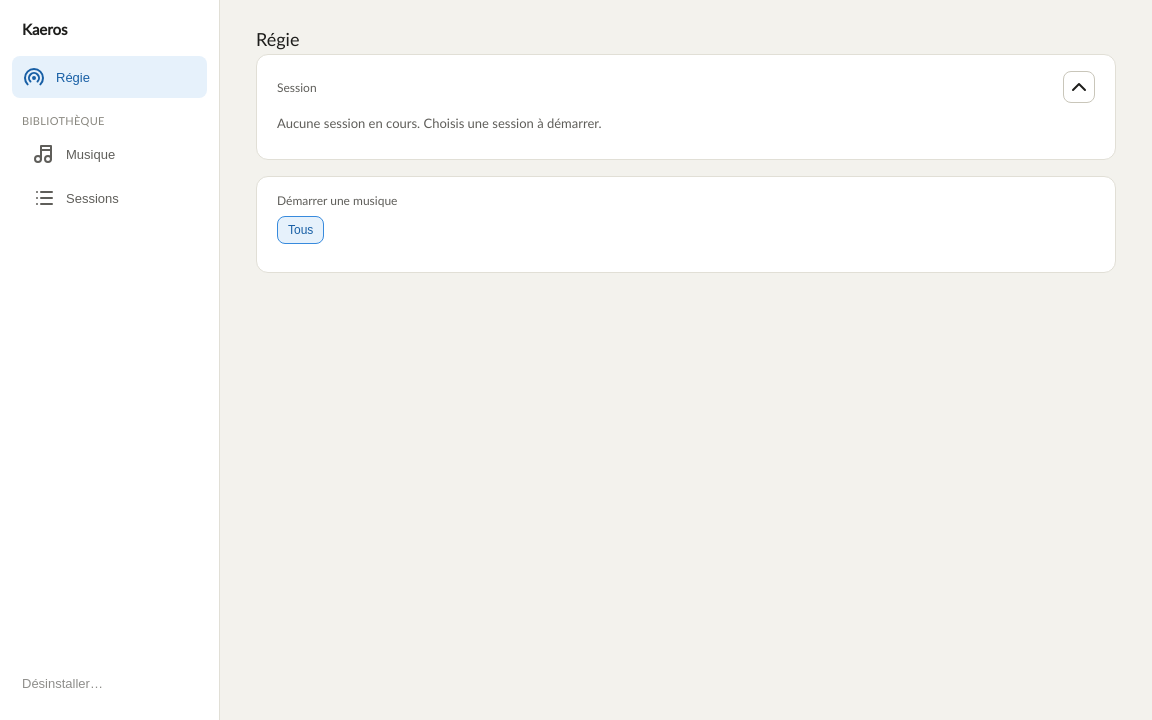
Test: Dashboard media check integration (real RegieScreen and WorkflowDashboard) › blocks playback and shows the dialog from the Sessions list entry point when a media is faulty
Click the button "Sessions" at [110, 198], box [12,177,207,219]
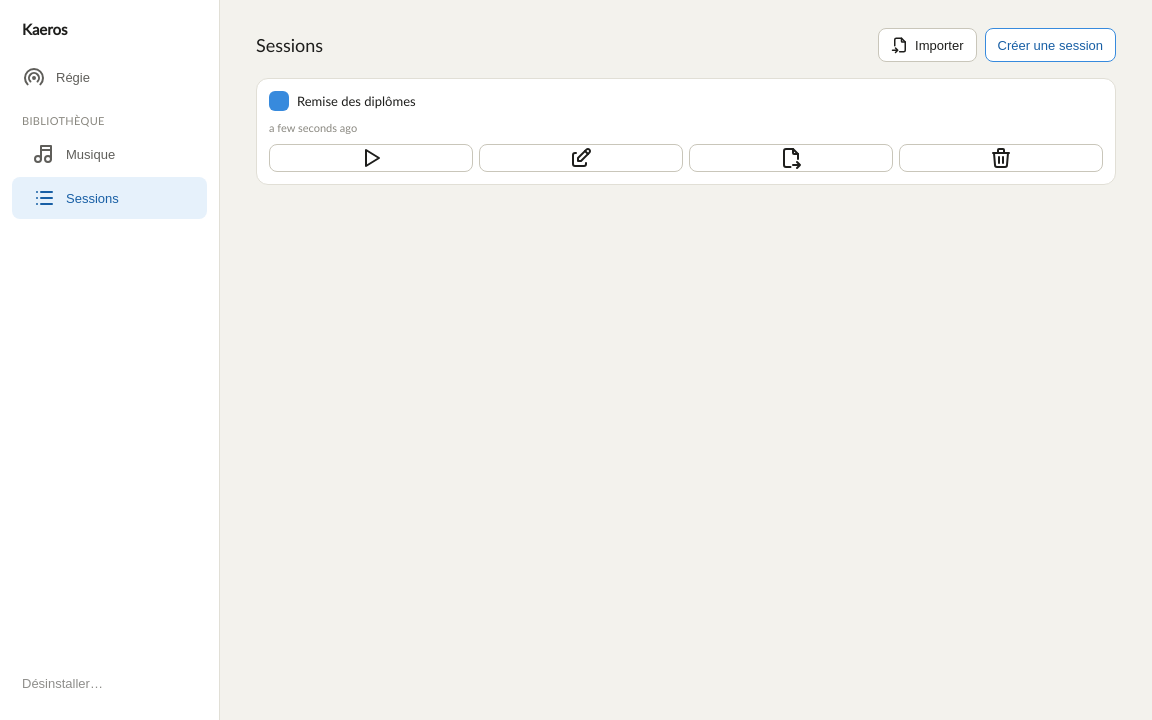
Click the button named "Démarrer" at [371, 158], box [269,144,473,172]
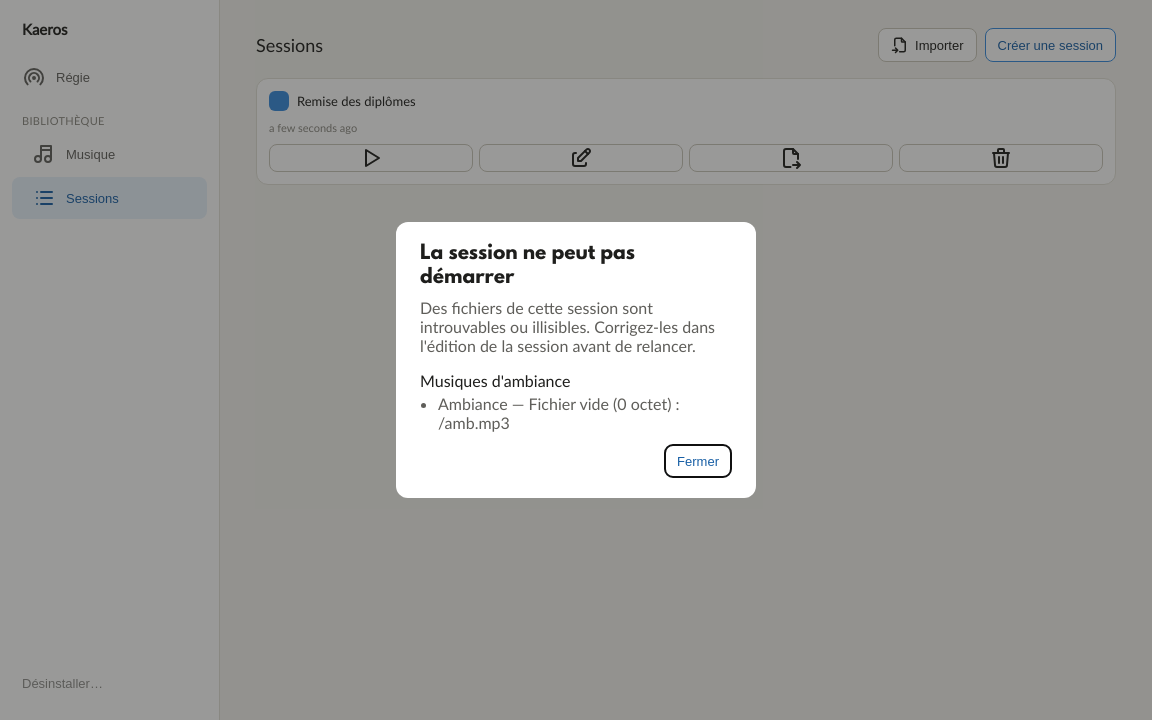
Check: the dialog is shown, box [396,222,756,498]
Check: the list item "Ambiance — Fichier vide (0 octet) : /amb.mp3" is shown, box [438,394,680,432]
